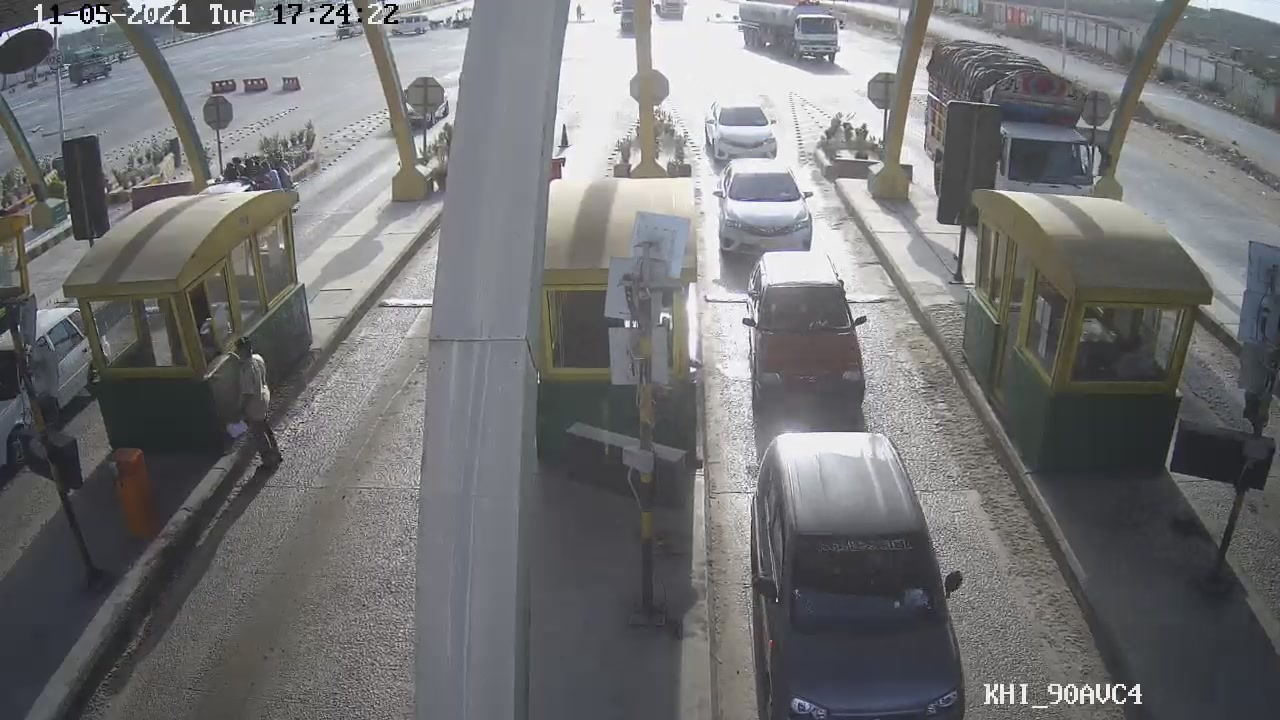F1: (734, 246, 872, 405)
